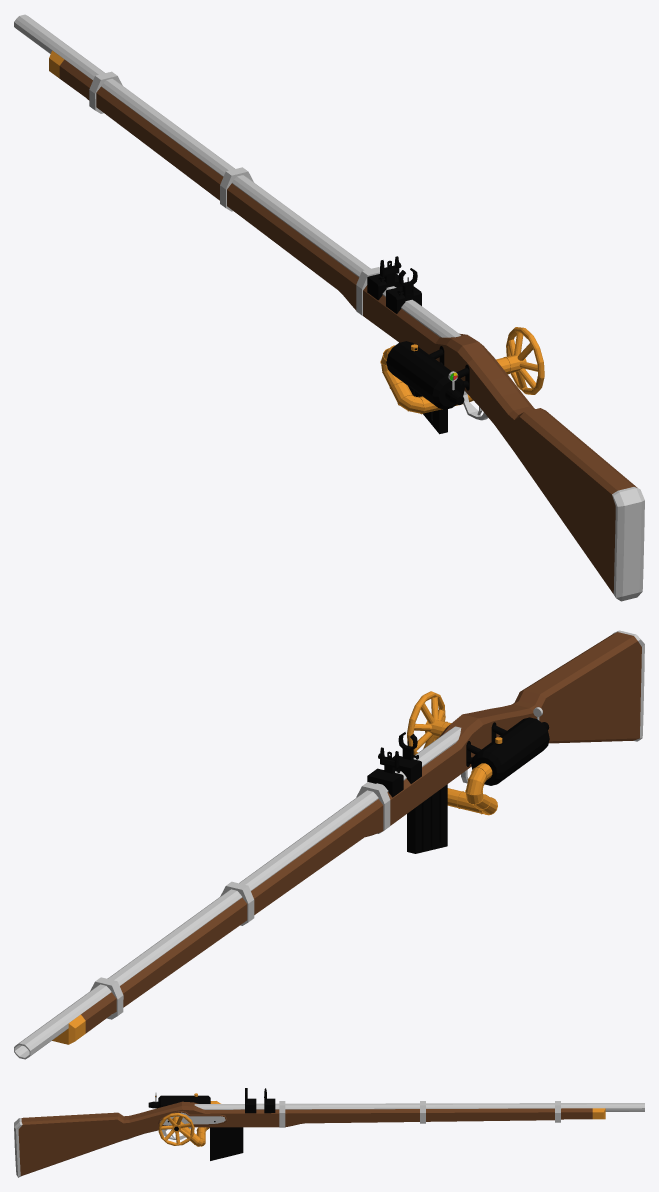
Rendered from Rifle (3).fbx.
3 renders of one model, top to bottom at view 1: azimuth 30°, elevation 25°; view 2: azimuth 150°, elevation 25°; view 3: azimuth 270°, elevation 25°, orthographic. The views are drawn at different scales.
Visible parts, largest first — view 1: Rifle, Steam Stuff, Iron Sight Rod, Iron Sight CIrcle; view 2: Rifle, Steam Stuff, Magazine, Iron Sight CIrcle, Iron Sight Rod; view 3: Rifle, Steam Stuff, Magazine, Iron Sight Rod, Iron Sight CIrcle.
Boxes of the visible parts, left/top/right/bottom form: Rifle: left=14, top=14, right=644, bottom=601; Steam Stuff: left=380, top=327, right=544, bottom=414; Iron Sight Rod: left=386, top=268, right=421, bottom=313; Iron Sight CIrcle: left=367, top=256, right=403, bottom=300; Rifle: left=14, top=630, right=644, bottom=1059; Steam Stuff: left=407, top=691, right=549, bottom=815; Magazine: left=407, top=784, right=447, bottom=853; Iron Sight CIrcle: left=367, top=747, right=403, bottom=797; Iron Sight Rod: left=392, top=732, right=421, bottom=783; Rifle: left=14, top=1101, right=644, bottom=1177; Steam Stuff: left=148, top=1092, right=220, bottom=1146; Magazine: left=210, top=1127, right=243, bottom=1160; Iron Sight Rod: left=245, top=1088, right=256, bottom=1113; Iron Sight CIrcle: left=264, top=1088, right=275, bottom=1113.
Bounding box in the file's own units: 51.24 × 73.89 × 487.
